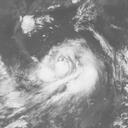cyclone: (34, 37, 98, 98)
